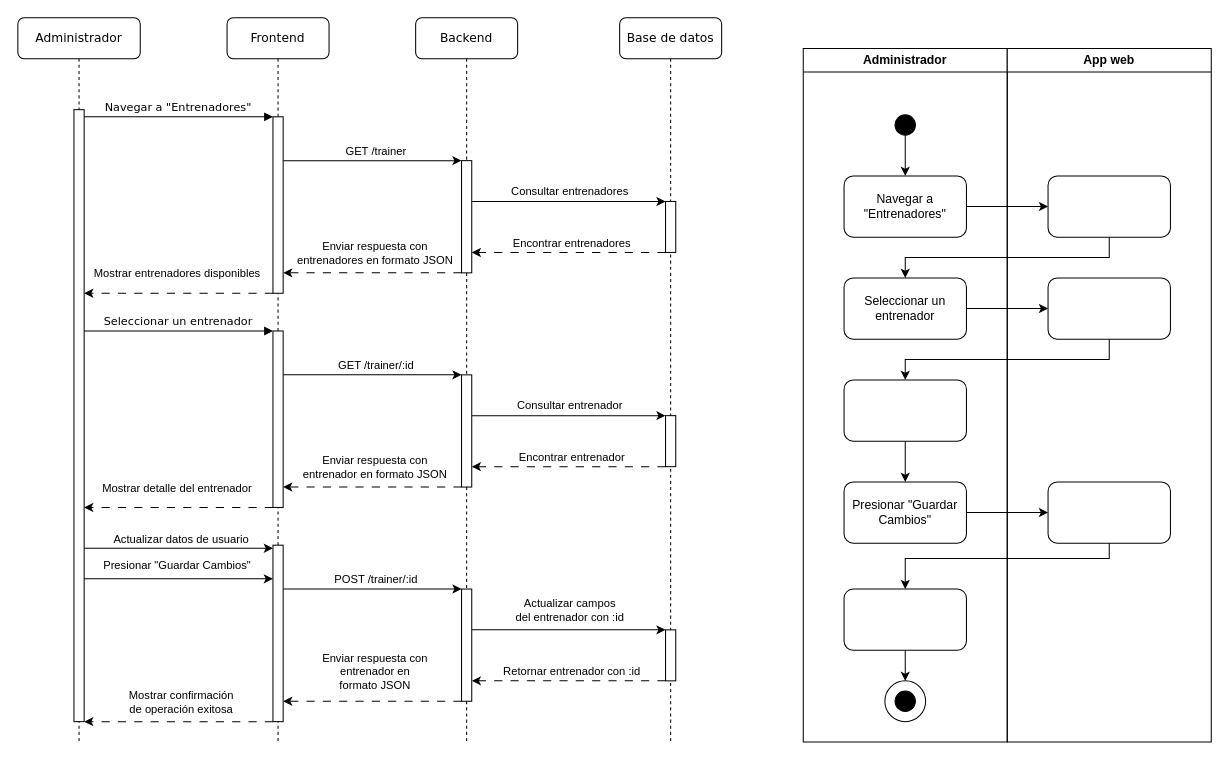
This 1229x760 diagram has some shape labels left out. The centre of each missing label's shape, as x and y in pixels:
"Actualizar datos de entrenador" belongs at pixel 904 410.
"Guardar Cambios" belongs at pixel 1108 512.
"Mostrar campos de perfil de entrenador" belongs at pixel 1108 308.
"Mostrar confirmación" belongs at pixel 904 619.
"Mostrar listado de entrenadores" belongs at pixel 1108 206.
